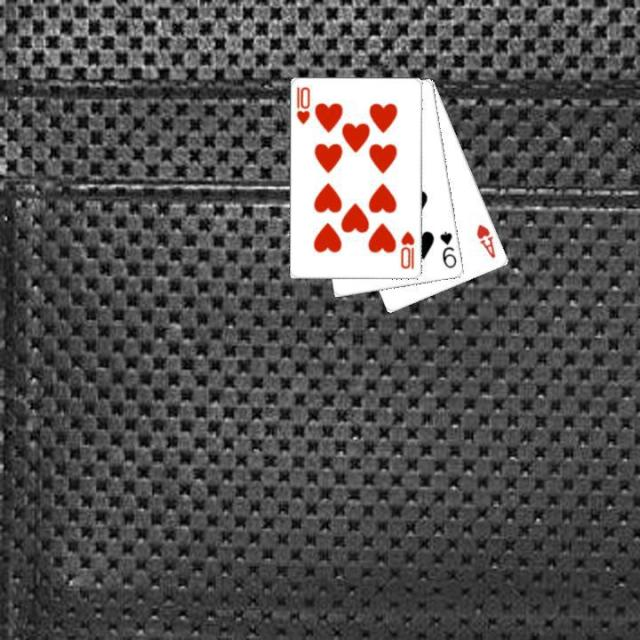10H: (397, 228, 417, 270), (292, 84, 312, 126)
9S: (436, 228, 458, 270)
AH: (473, 220, 498, 260)
